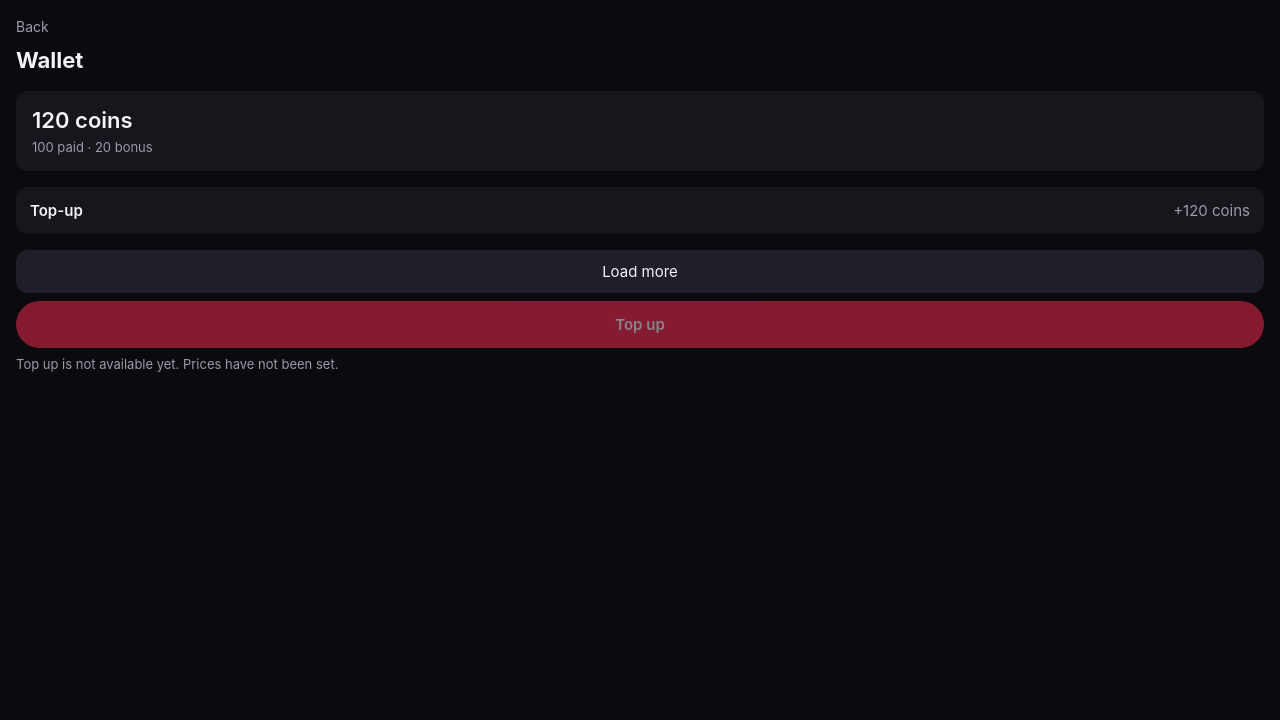
a 401 while appending › keeps the rows and offers sign-in under them
Click the button with test id "load-more-wallet". click: (640, 271)
box: [16, 250, 1264, 292]
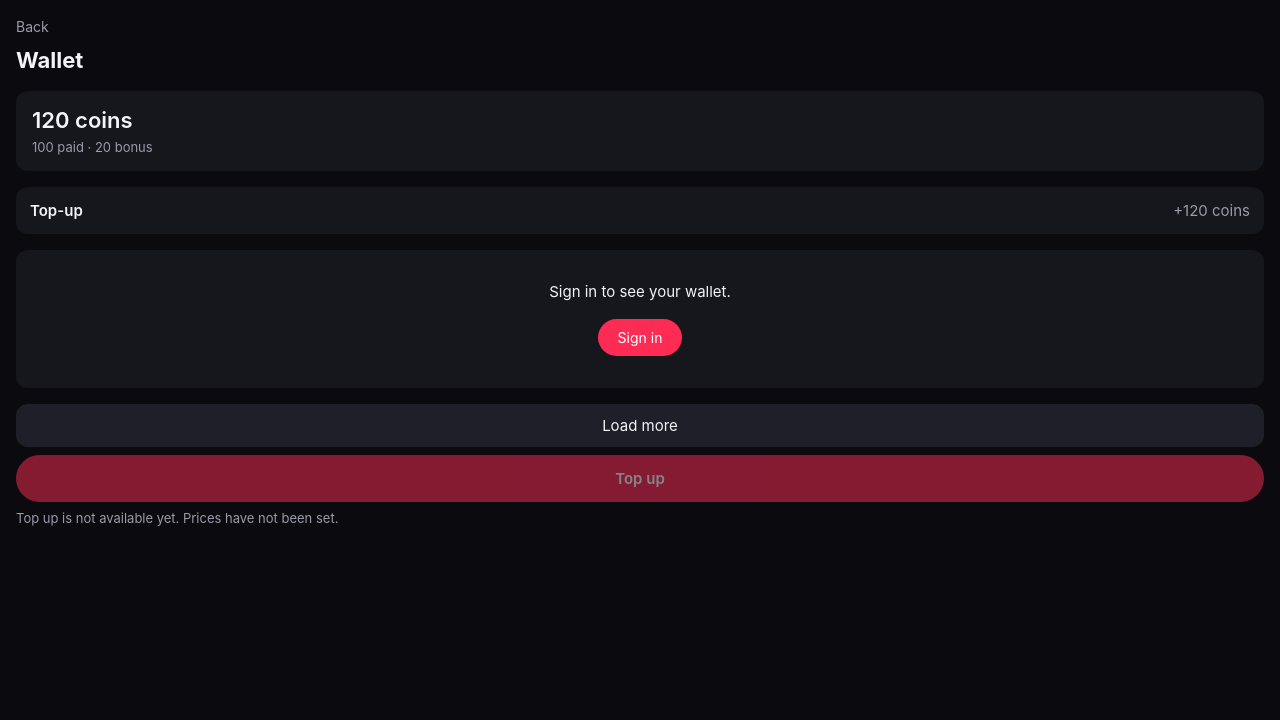
Expected: the list item with test id "wallet-ledger-row" is shown, [16, 186, 1264, 234]
Now the element with test id "wallet-sign-in-more" is shown, box [16, 250, 1264, 388]
